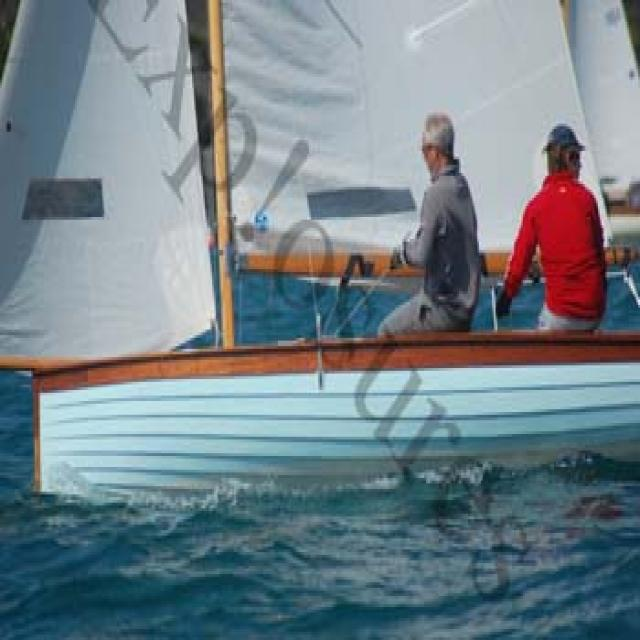Ship: (5, 5, 640, 485)
